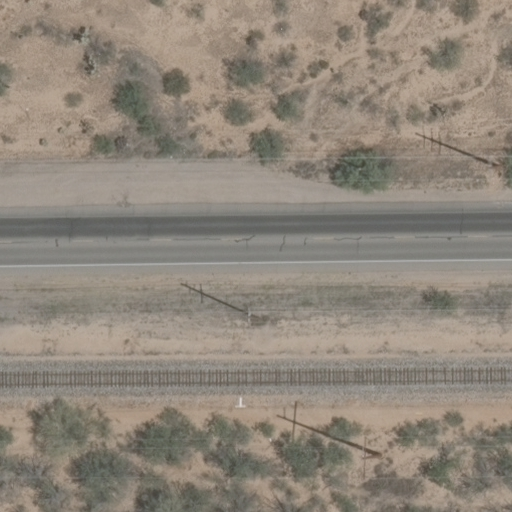DT: (274, 409, 381, 460), (414, 129, 496, 168), (175, 279, 250, 318)
